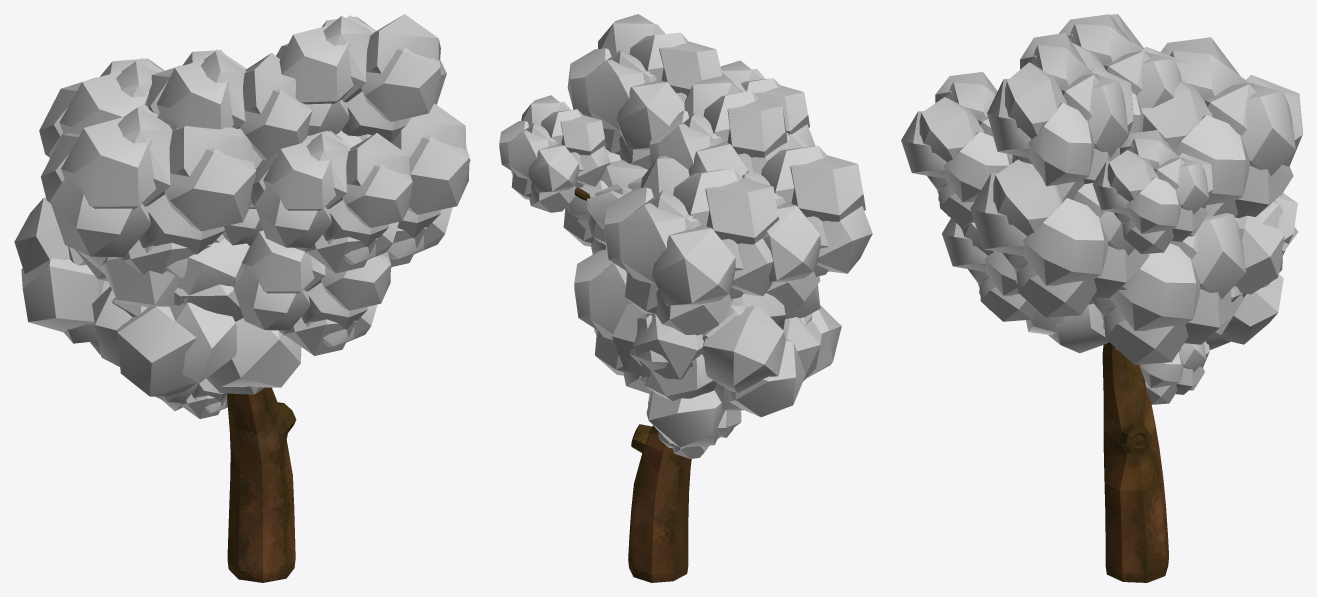
The model's file is Arvi Grande.fbx.
3 renders of one model, left to right at view 1: azimuth 30°, elevation 25°; view 2: azimuth 150°, elevation 25°; view 3: azimuth 270°, elevation 25°, orthographic. The views are drawn at different scales.
Parts seen in each view (by area): view 1: Folha.019, Folha.015, Folha.022, Folha.010, Folha.021, Tronco Grande, Folha.011, Folha.023, Folha.016, Folha.018, Folha.017, Folha.020; view 2: Folha.018, Folha.016, Folha.010, Folha.019, Folha.011, Folha.013, Tronco Grande, Folha.009, Folha.015, Folha.012, Folha.022, Folha.023 (+1 smaller); view 3: Folha.018, Folha.023, Folha.010, Folha.009, Tronco Grande, Folha.013, Folha.022, Folha.016, Folha.011, Folha.021, Folha.017, Folha.015.
Boxes of the visible parts, x1,y1,x2,y2 form: Folha.019: (41,104,255,278); Folha.015: (92,238,301,396); Folha.022: (250,130,413,273); Folha.010: (276,14,446,142); Folha.021: (233,230,391,355); Tronco Grande: (227,387,296,582); Folha.011: (145,49,312,168); Folha.023: (336,103,470,266); Folha.016: (14,197,109,354); Folha.018: (39,58,164,158); Folha.017: (155,378,227,418); Folha.020: (222,169,263,245); Folha.018: (604,155,778,335); Folha.016: (612,293,805,447); Folha.010: (567,14,722,169); Folha.019: (742,132,872,314); Folha.011: (649,72,787,177); Folha.013: (499,95,610,212); Tronco Grande: (574,188,691,582); Folha.009: (574,249,651,394); Folha.015: (783,284,841,381); Folha.012: (566,160,647,245); Folha.022: (720,60,815,146); Folha.023: (563,149,621,254); Folha.018: (1141,37,1302,218); Folha.023: (970,157,1149,317); Folha.010: (987,32,1133,201); Folha.009: (1091,213,1246,364); Tronco Grande: (1102,342,1168,582); Folha.013: (1092,130,1213,254); Folha.022: (901,72,1012,228); Folha.016: (1205,193,1297,349); Folha.011: (1059,14,1189,136); Folha.021: (942,218,1037,321); Folha.017: (1139,342,1209,404); Folha.015: (1026,300,1108,353).
Size of the model in its own units: 467 by 661 by 444.
